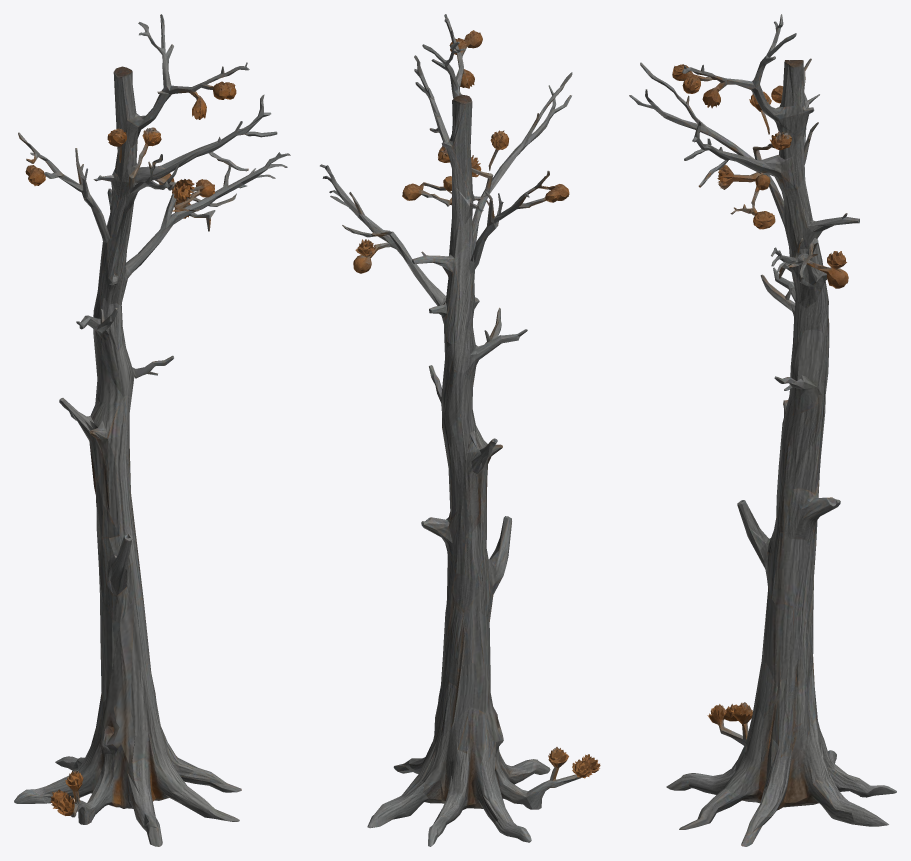
File: dead-tree.glb
3 renders of one model, left to right at view 1: azimuth 30°, elevation 25°; view 2: azimuth 150°, elevation 25°; view 3: azimuth 270°, elevation 25°, orthographic. The views are drawn at different scales.
Bounding box in the file's own units: 0.6664 × 1.9 × 0.5833.
Materials: 1 (1 with a texture image).
